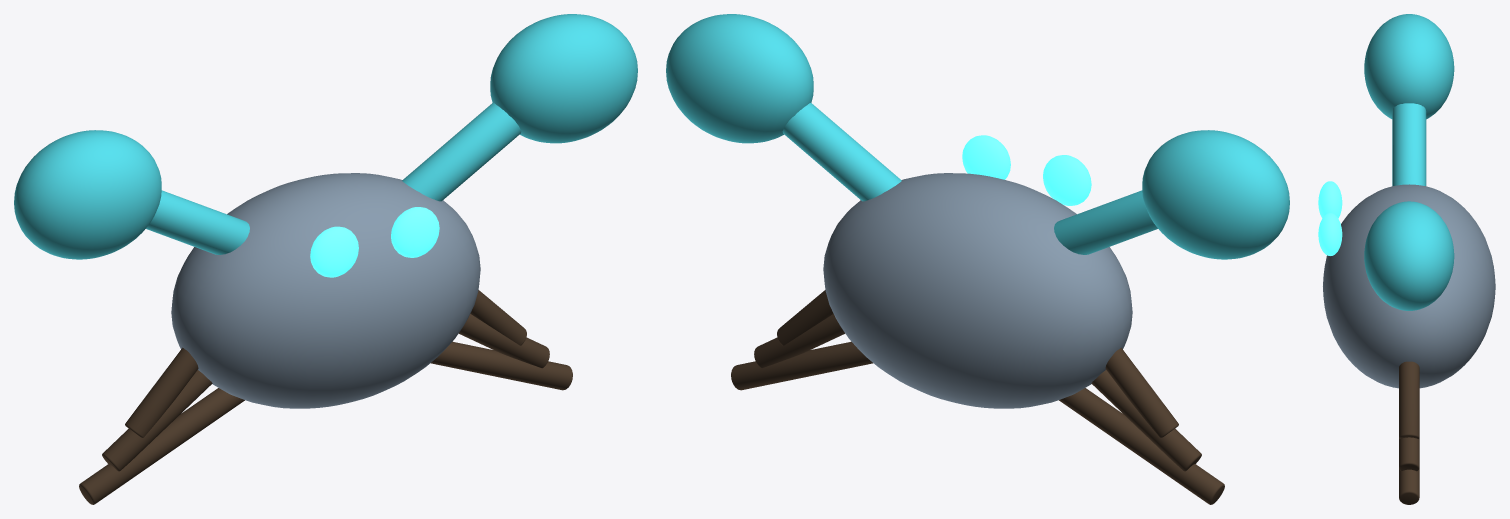
File: aquatic_v8.glb
3 renders of one model, left to right at view 1: azimuth 30°, elevation 25°; view 2: azimuth 150°, elevation 25°; view 3: azimuth 270°, elevation 25°, orthographic. The views are drawn at different scales.
Parts seen in each view (by area): view 1: CRAB_BODY_PRIMARY, CRAB_CLAW_ACCENT, CRAB_CLAW_ACCENT.001, CRAB_CLAW_ARM_ACCENT.001, CRAB_LEG_SECONDARY.002, CRAB_CLAW_ARM_ACCENT, CRAB_LEG_SECONDARY.005, CRAB_LEG_SECONDARY, CRAB_LEG_SECONDARY.001, EYE_EMISSIVE, EYE_EMISSIVE.001, CRAB_LEG_SECONDARY.004 (+1 smaller); view 2: CRAB_BODY_PRIMARY, CRAB_CLAW_ACCENT, CRAB_CLAW_ACCENT.001, CRAB_CLAW_ARM_ACCENT.001, CRAB_LEG_SECONDARY.002, CRAB_CLAW_ARM_ACCENT, CRAB_LEG_SECONDARY.005, CRAB_LEG_SECONDARY, CRAB_LEG_SECONDARY.001, EYE_EMISSIVE, CRAB_LEG_SECONDARY.004, EYE_EMISSIVE.001 (+1 smaller); view 3: CRAB_BODY_PRIMARY, CRAB_CLAW_ACCENT.001, CRAB_CLAW_ACCENT, CRAB_CLAW_ARM_ACCENT, CRAB_LEG_SECONDARY.003, EYE_EMISSIVE.001, EYE_EMISSIVE, CRAB_LEG_SECONDARY.005, CRAB_LEG_SECONDARY.004.
Part boxes in pixels (x1,y1,x2,y2): CRAB_BODY_PRIMARY: [171, 173, 480, 408]; CRAB_CLAW_ACCENT: [14, 130, 161, 259]; CRAB_CLAW_ACCENT.001: [490, 14, 637, 143]; CRAB_CLAW_ARM_ACCENT.001: [402, 103, 521, 201]; CRAB_LEG_SECONDARY.002: [79, 388, 244, 504]; CRAB_CLAW_ARM_ACCENT: [146, 190, 249, 254]; CRAB_LEG_SECONDARY.005: [430, 341, 572, 390]; CRAB_LEG_SECONDARY: [125, 347, 198, 437]; CRAB_LEG_SECONDARY.001: [102, 370, 212, 471]; EYE_EMISSIVE: [310, 226, 358, 277]; EYE_EMISSIVE.001: [391, 207, 439, 257]; CRAB_LEG_SECONDARY.004: [459, 314, 549, 368]; CRAB_BODY_PRIMARY: [823, 173, 1132, 408]; CRAB_CLAW_ACCENT: [1142, 130, 1289, 259]; CRAB_CLAW_ACCENT.001: [666, 14, 813, 143]; CRAB_CLAW_ARM_ACCENT.001: [782, 103, 901, 201]; CRAB_LEG_SECONDARY.002: [1059, 388, 1224, 504]; CRAB_CLAW_ARM_ACCENT: [1054, 190, 1157, 254]; CRAB_LEG_SECONDARY.005: [731, 341, 873, 390]; CRAB_LEG_SECONDARY: [1105, 347, 1178, 437]; CRAB_LEG_SECONDARY.001: [1091, 370, 1201, 471]; EYE_EMISSIVE: [1043, 155, 1091, 205]; CRAB_LEG_SECONDARY.004: [754, 314, 844, 368]; EYE_EMISSIVE.001: [962, 135, 1010, 179]; CRAB_BODY_PRIMARY: [1323, 184, 1495, 388]; CRAB_CLAW_ACCENT.001: [1364, 201, 1454, 310]; CRAB_CLAW_ACCENT: [1364, 14, 1454, 119]; CRAB_CLAW_ARM_ACCENT: [1392, 103, 1426, 186]; CRAB_LEG_SECONDARY.003: [1399, 361, 1419, 438]; EYE_EMISSIVE.001: [1318, 213, 1342, 255]; EYE_EMISSIVE: [1318, 181, 1342, 218]; CRAB_LEG_SECONDARY.005: [1399, 468, 1419, 504]; CRAB_LEG_SECONDARY.004: [1399, 437, 1419, 471].
Bounding box in the file's own units: 2.37 × 1.36 × 0.7364.
